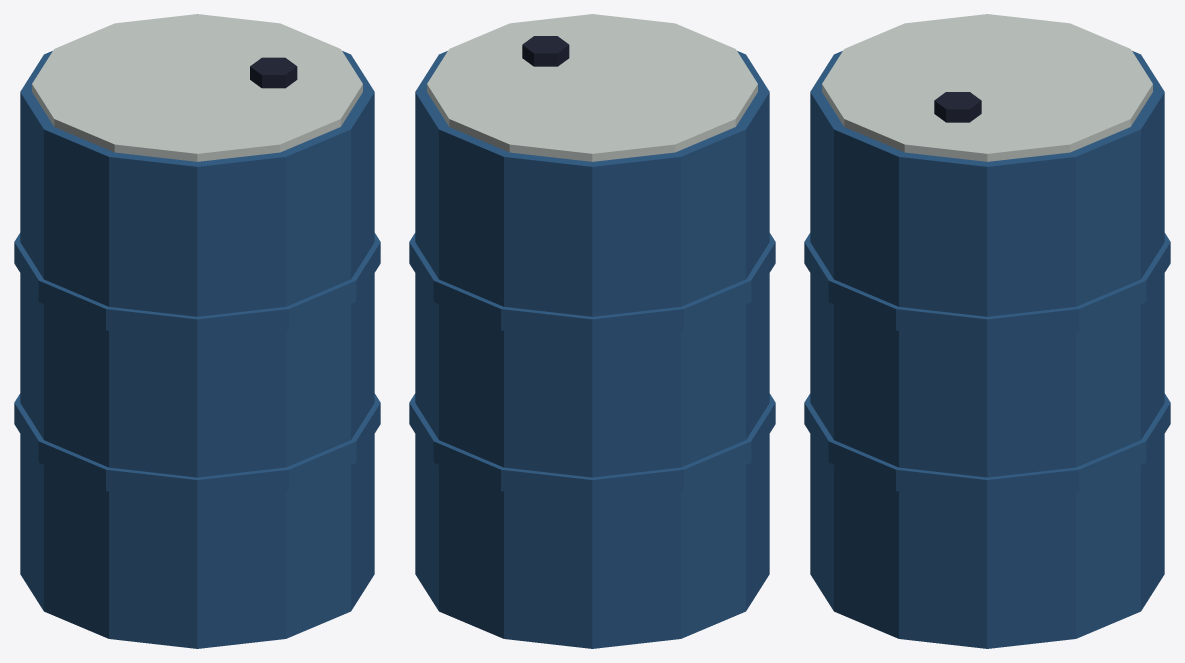
The model's file is sm_env_service_drum.glb.
3 renders of one model, left to right at view 1: azimuth 30°, elevation 25°; view 2: azimuth 150°, elevation 25°; view 3: azimuth 270°, elevation 25°, orthographic.
Parts seen in each view (by area): view 1: Drum, DrumLid, DrumRib.001, DrumRib, DrumBung; view 2: Drum, DrumLid, DrumRib.001, DrumRib, DrumBung; view 3: Drum, DrumLid, DrumRib.001, DrumRib, DrumBung.
Part boxes in pixels (left/top/right/bottom): Drum: left=20, top=51, right=374, bottom=648; DrumLid: left=32, top=14, right=362, bottom=161; DrumRib.001: left=14, top=233, right=380, bottom=340; DrumRib: left=14, top=393, right=380, bottom=501; DrumBung: left=250, top=57, right=297, bottom=88; Drum: left=415, top=51, right=769, bottom=648; DrumLid: left=427, top=14, right=757, bottom=161; DrumRib.001: left=409, top=233, right=775, bottom=340; DrumRib: left=409, top=393, right=775, bottom=501; DrumBung: left=522, top=36, right=569, bottom=66; Drum: left=810, top=51, right=1164, bottom=648; DrumLid: left=822, top=14, right=1152, bottom=161; DrumRib.001: left=804, top=233, right=1170, bottom=340; DrumRib: left=804, top=393, right=1170, bottom=501; DrumBung: left=934, top=92, right=981, bottom=122.
Size of the model in its own units: 0.62 by 0.94 by 0.62.
